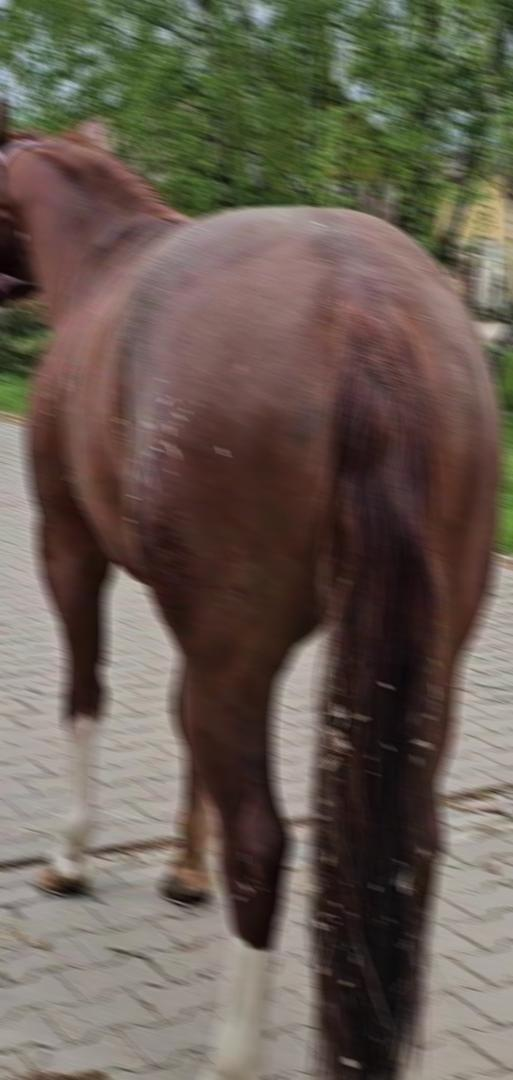horse: (0, 90, 506, 1078)
